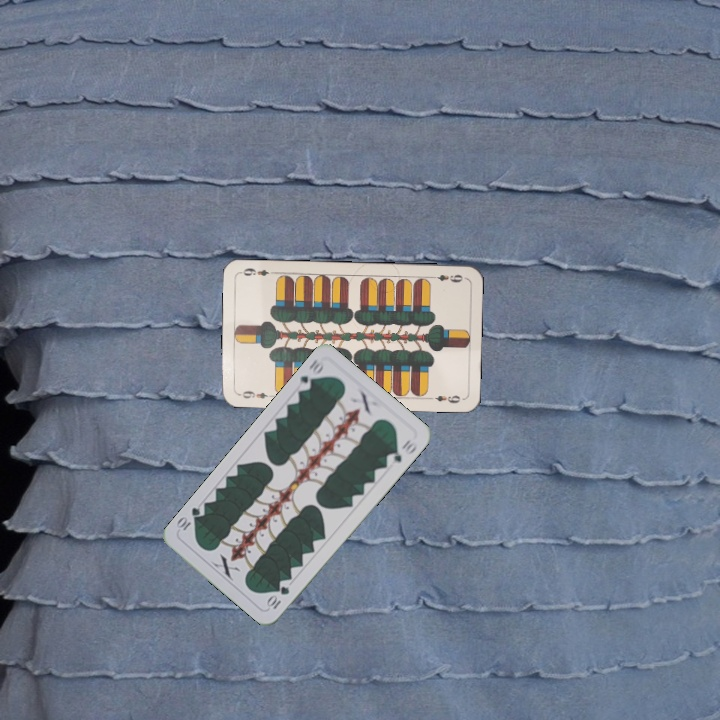E9: (235, 386, 276, 401), (426, 270, 465, 285)
G10: (293, 355, 327, 394), (263, 582, 292, 612)
